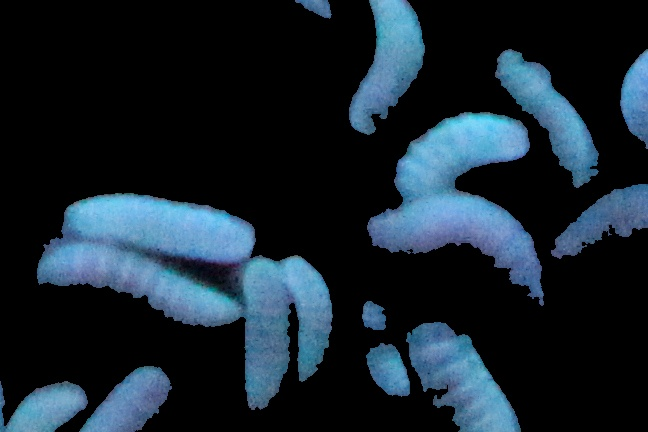larvae: (365, 188, 553, 306), (41, 250, 241, 324), (497, 51, 603, 185), (405, 318, 527, 432), (58, 193, 255, 256), (389, 111, 531, 191), (348, 1, 425, 136), (228, 261, 290, 417), (283, 250, 336, 399), (351, 301, 412, 398), (96, 364, 177, 432), (12, 382, 95, 432)
